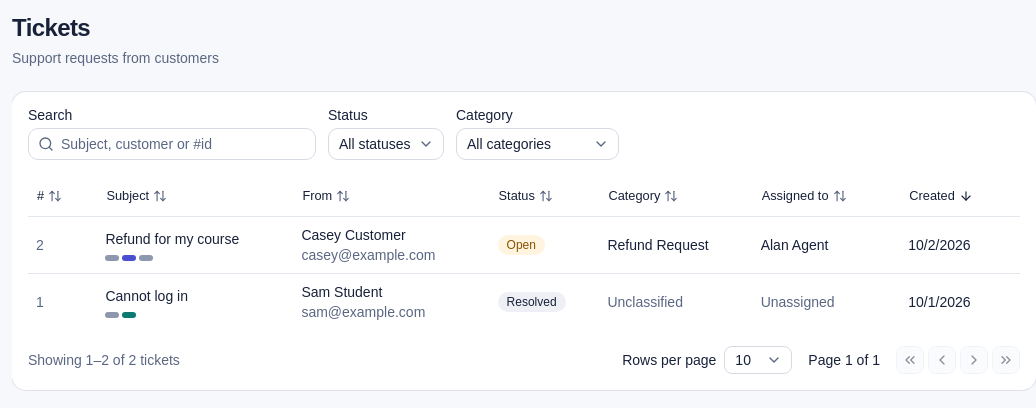
Test: TicketsPage › filtering › clears all filters with the Clear filters button
Check: the table is shown, box [28, 176, 1020, 330]
Select "Open" in the dropdown labelled "Status" at (386,144), box [328, 128, 444, 160]
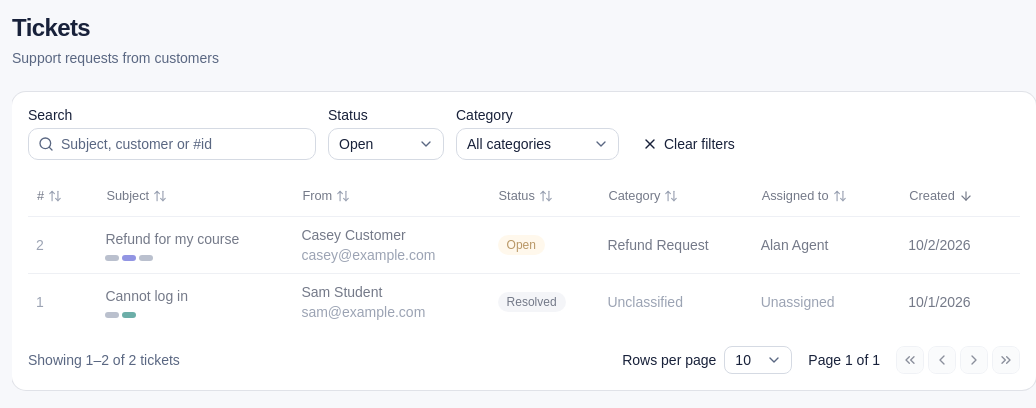
Select "Unclassified" in the dropdown labelled "Category" at (538,144), box [456, 128, 619, 160]
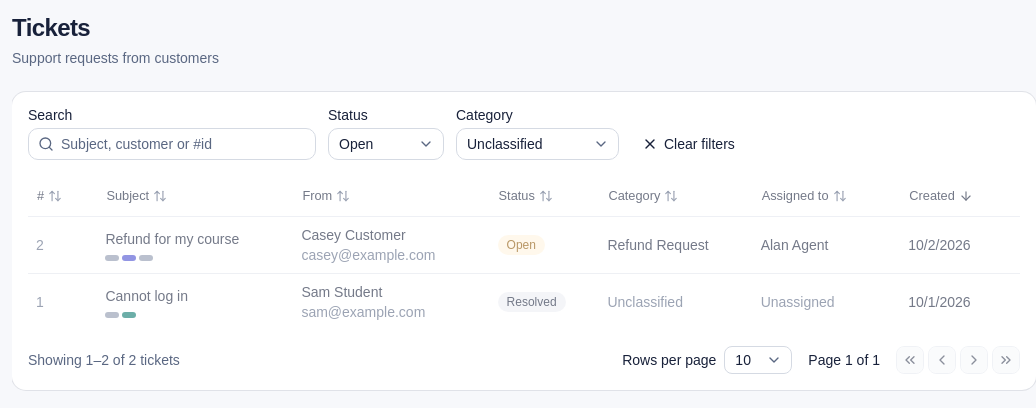
Click the button "Clear filters" at (688,144), box [631, 128, 746, 160]
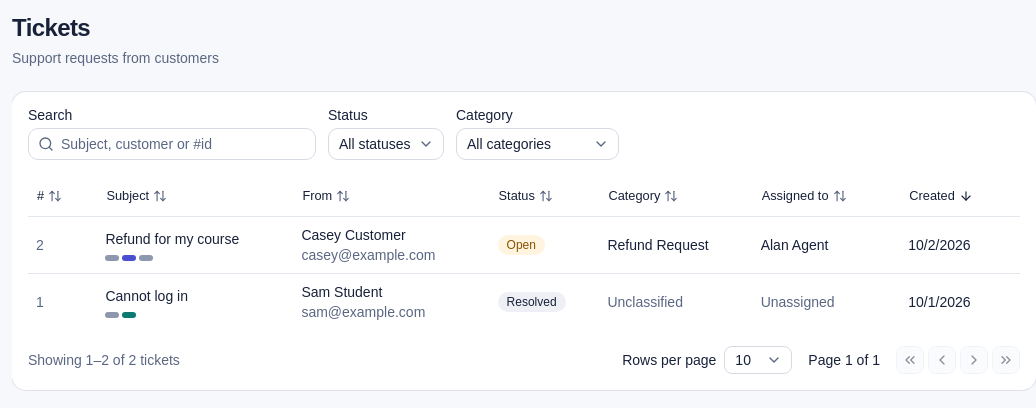
Check: the button "Clear filters" is gone
